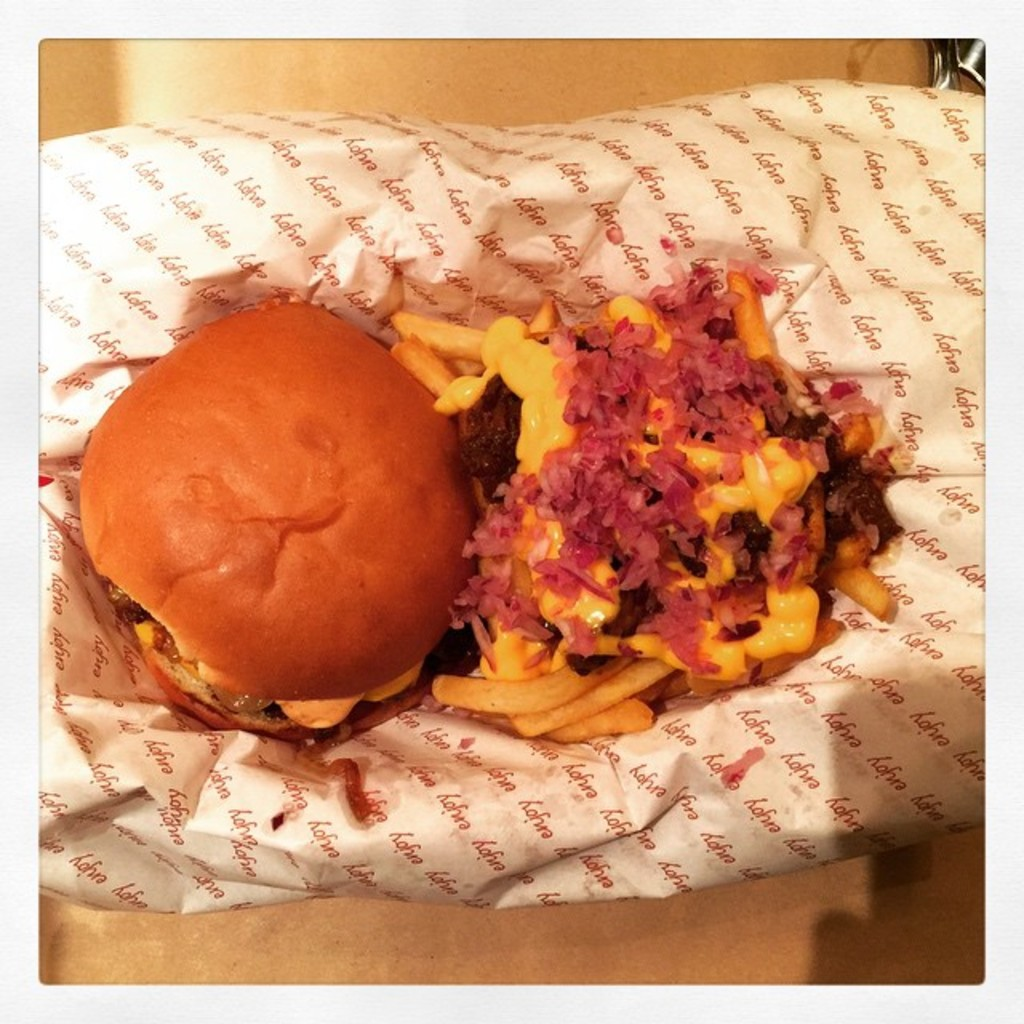Hamburger: (76, 302, 480, 739)
